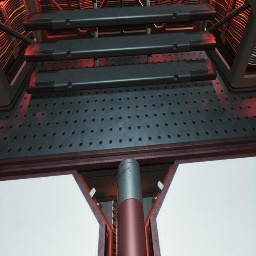NitrogenTank ,: (117, 158, 147, 256)
